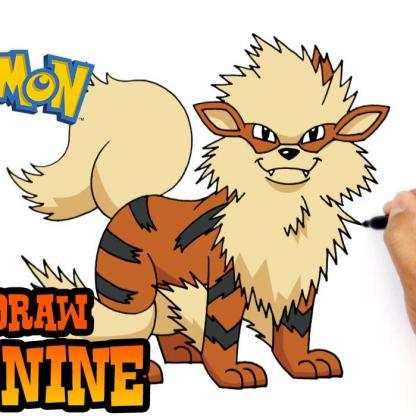Arcanine: (158, 51, 378, 382)
